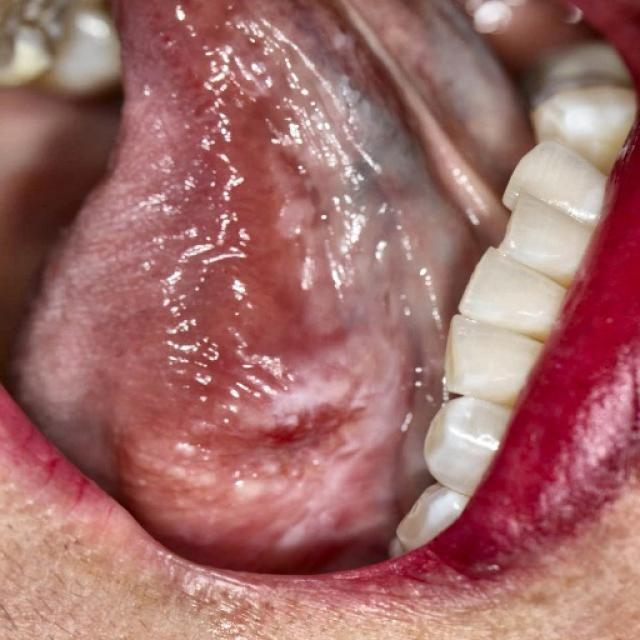cancer-detection: (118, 5, 525, 569)
processing_area: (11, 0, 533, 568)
